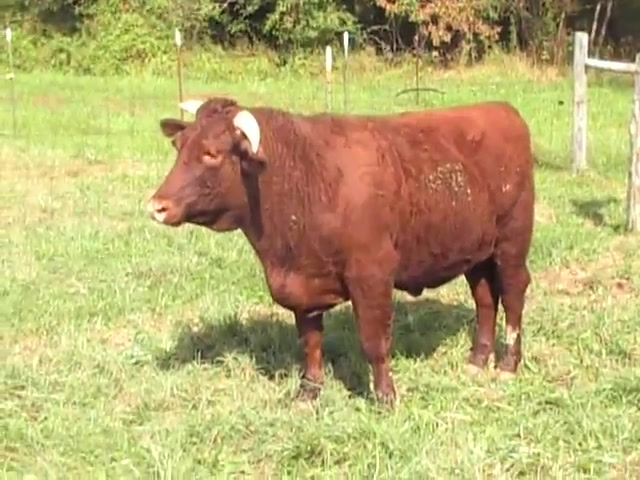cow: (146, 97, 536, 407)
